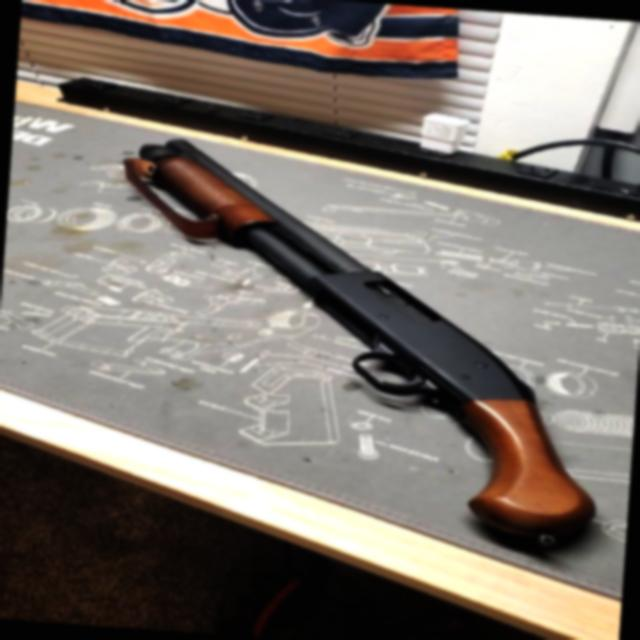shotgun: (7, 112, 628, 568)
